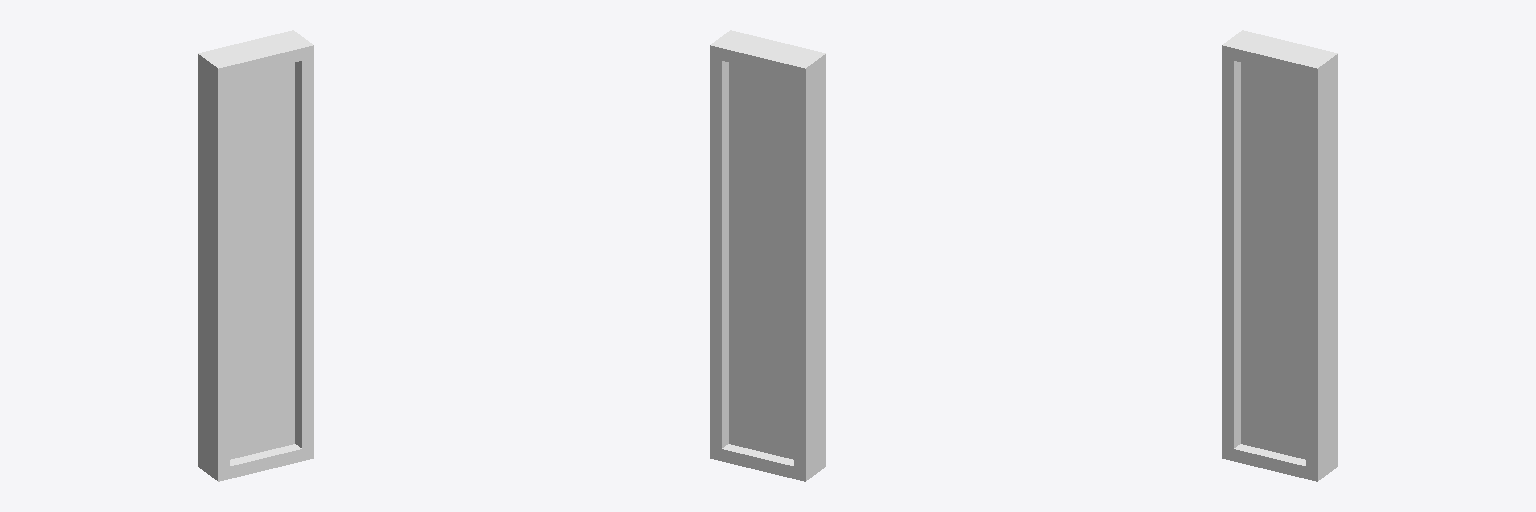
The model's file is sl_PowerScreen.obj.
The picture shows the model from 3 angles: view 1: azimuth 30°, elevation 25°; view 2: azimuth 150°, elevation 25°; view 3: azimuth 330°, elevation 25°; orthographic projection.
Size of the model in its own units: 8 by 33 by 3.